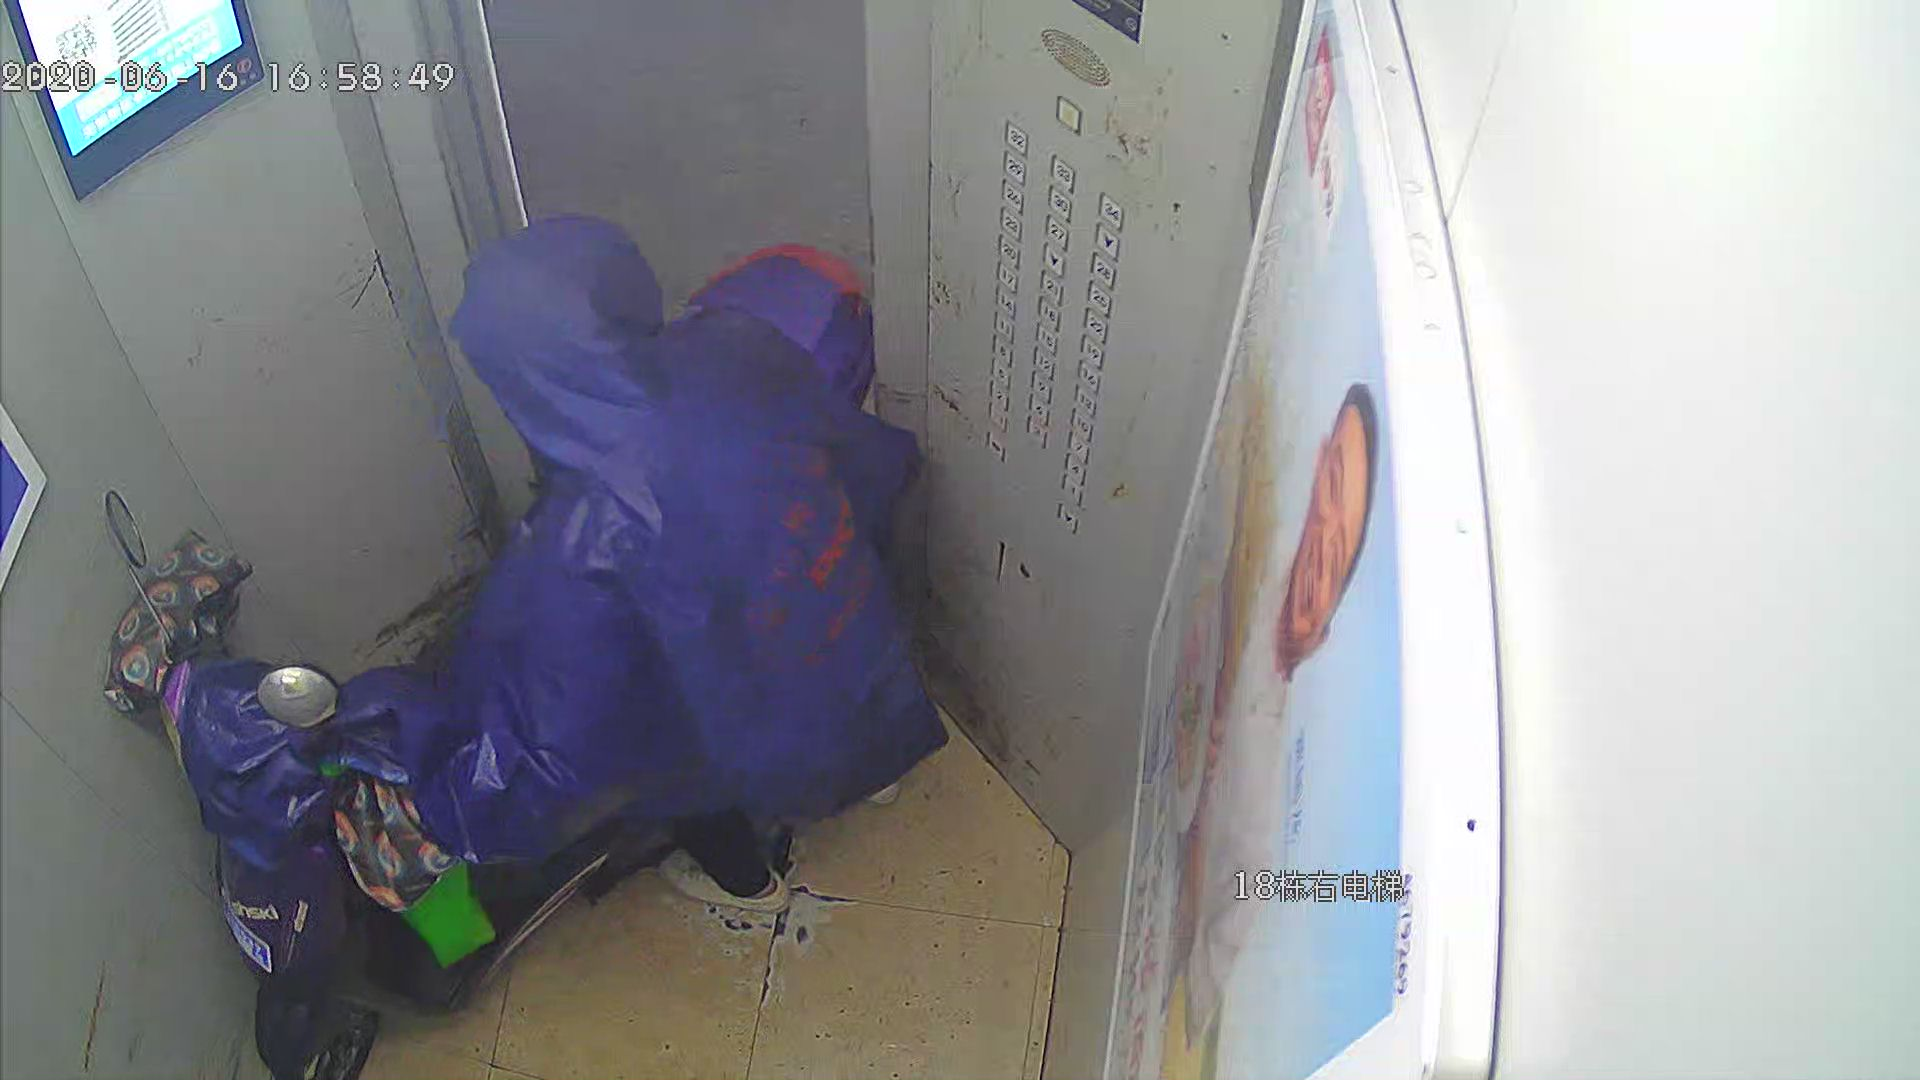Electric-bicycle: (100, 243, 865, 1080)
